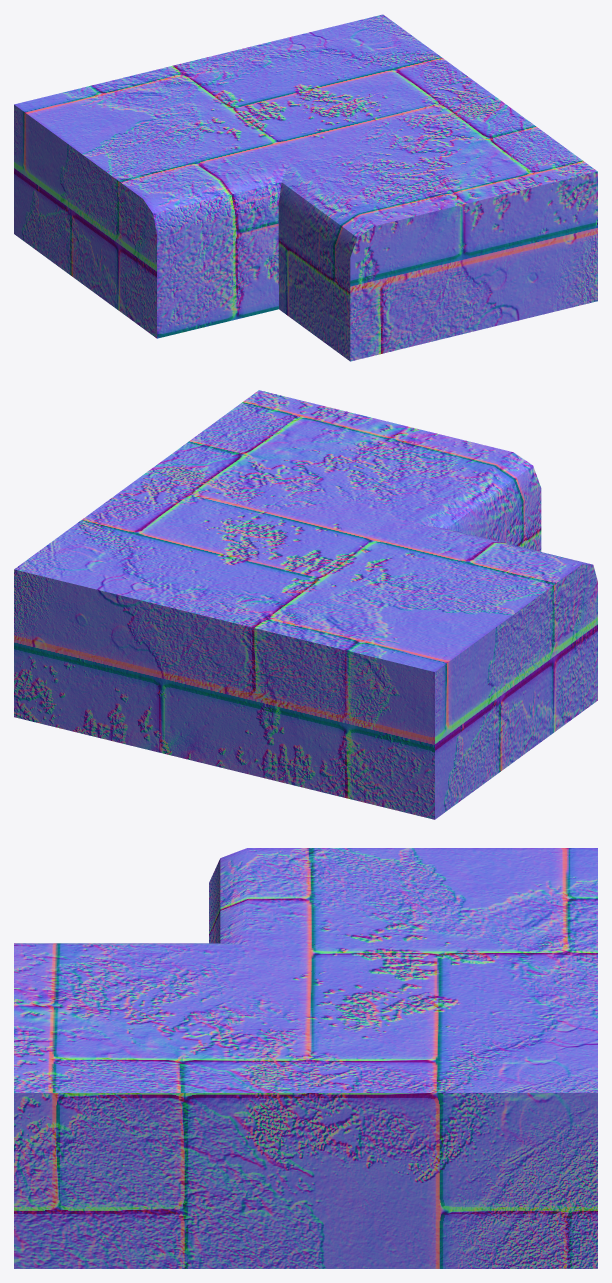
File: floor_corner.fbx
The picture shows the model from 3 angles, top to bottom: view 1: azimuth 30°, elevation 25°; view 2: azimuth 150°, elevation 25°; view 3: azimuth 270°, elevation 25°; orthographic projection. The views are drawn at different scales.
Visible parts, largest first — view 1: pPlane16; view 2: pPlane16; view 3: pPlane16.
Part boxes in pixels (x1=…): pPlane16: x1=14, y1=14, x2=597, y2=361; pPlane16: x1=14, y1=390, x2=597, y2=819; pPlane16: x1=14, y1=848, x2=597, y2=1268.
Size of the model in its own units: 149 by 50 by 150.
1 material, 1 textured.
